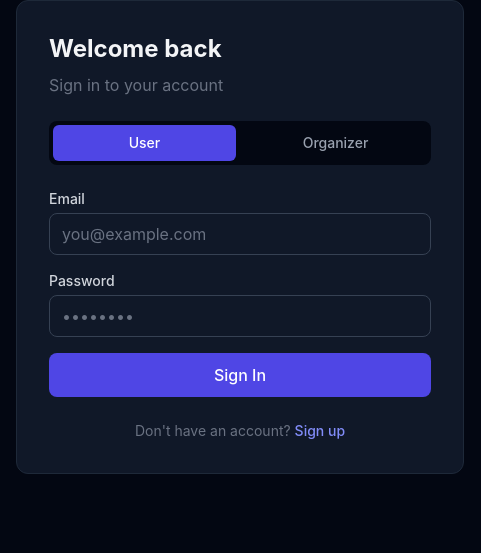
Test: LoginForm › shows validation error when fields are empty
Click the button "Sign In" at (240, 375), box [49,353,431,397]
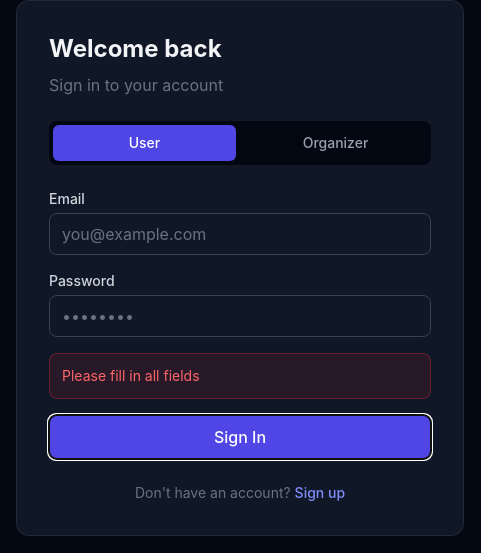
Result: the text "Please fill in all fields" is shown at [62,367,200,384]
